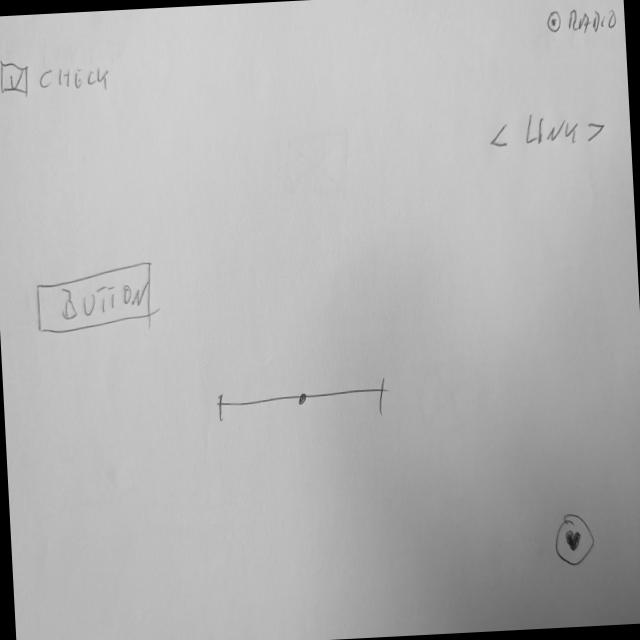button: (33, 256, 158, 336)
checkbox: (0, 51, 114, 102)
icon-button: (551, 510, 597, 570)
link: (486, 109, 608, 157)
radio: (542, 1, 622, 36)
slider: (213, 371, 390, 423)
